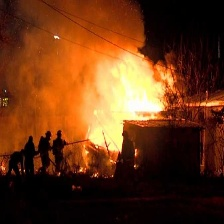fire: (118, 81, 163, 119)
smoke: (1, 1, 141, 134)
